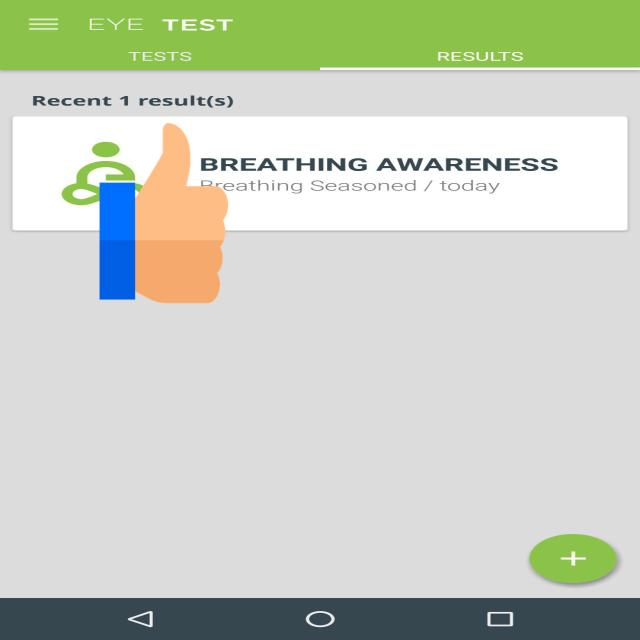privacy zuckering: (100, 119, 228, 308)
